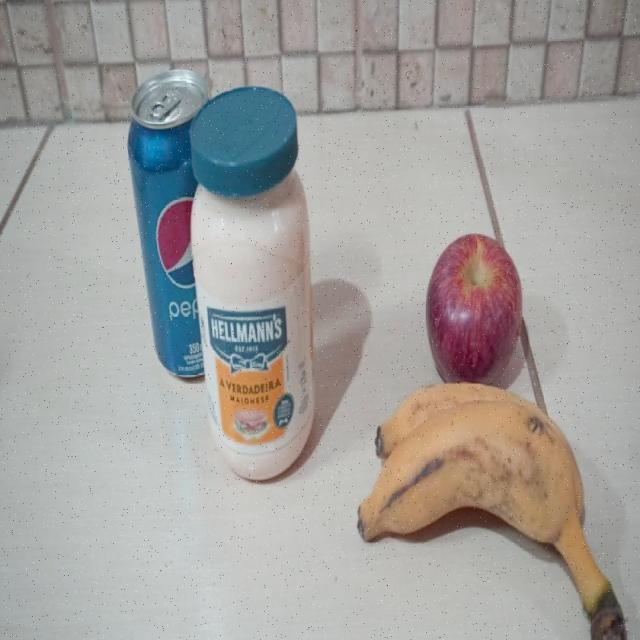Apple: (425, 233, 523, 384)
Banana: (358, 381, 628, 640)
Mayonnaise: (189, 85, 316, 482)
SodaCan: (127, 69, 211, 380)
